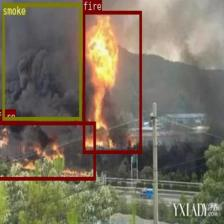fire: (82, 10, 142, 154), (0, 120, 95, 180)
smoke: (2, 3, 81, 120)
